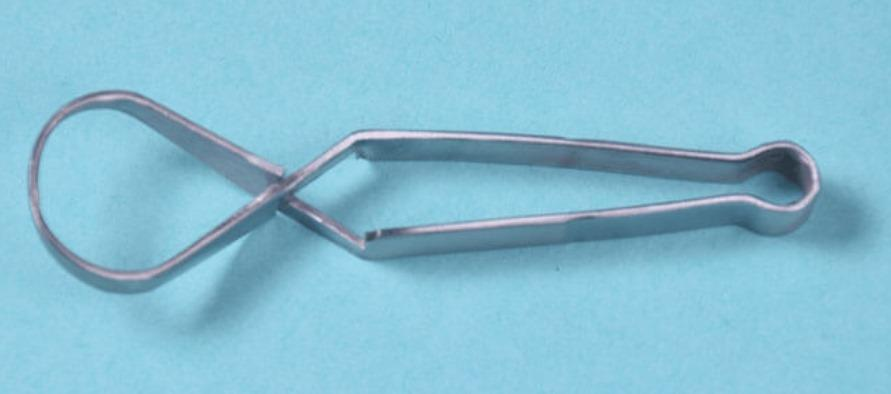Doyen Cross Action Towel Clamp: (24, 79, 823, 295)
